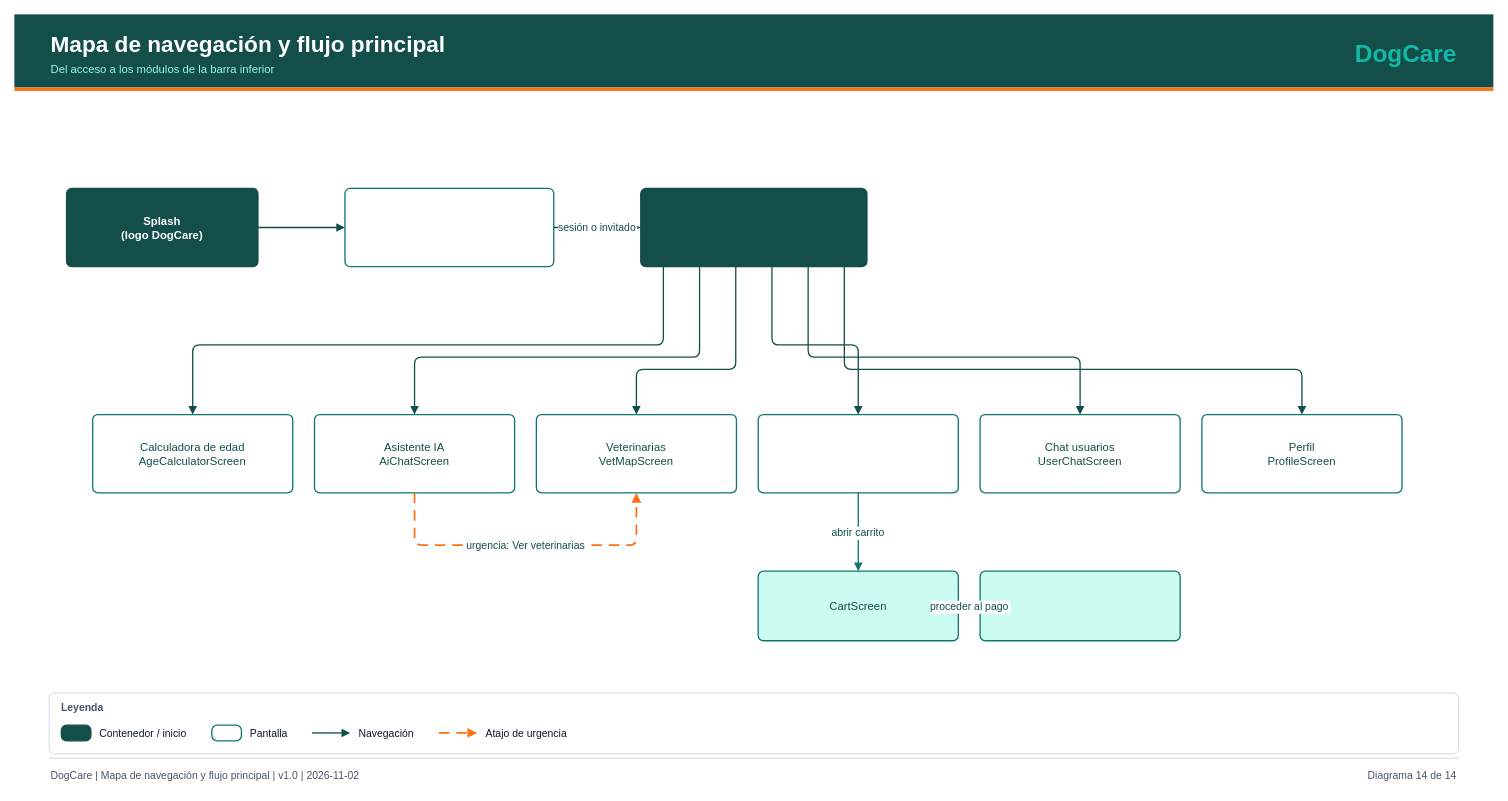
The diagram is 1508 pixels wide and 801 high, and some of its shapes have lost their labels. The shapes that lost their labels are listed below. From the top down, each one's box as (x1, y1, x2, y2) in pixels, then its label:
(344, 187, 554, 267): AuthScreen login · registro · invitado
(640, 187, 867, 267): DogCareApp barra de navegación
(757, 414, 959, 493): Tienda StoreScreen
(979, 570, 1180, 641): CheckoutScreen pago simulado
